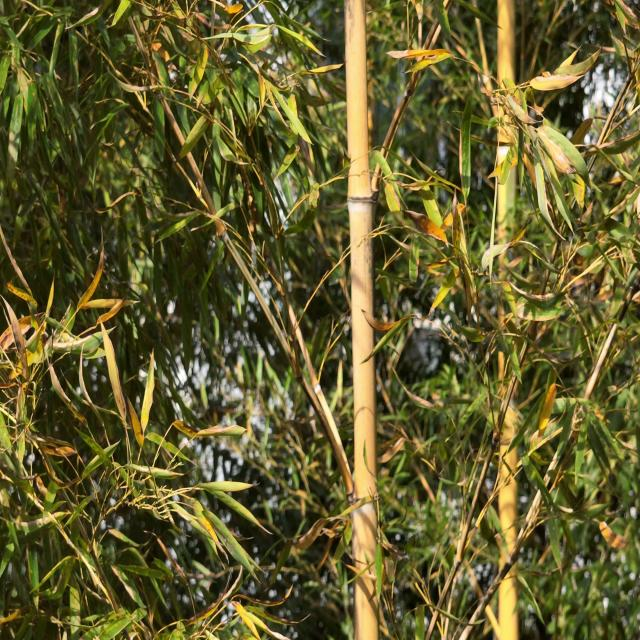Bamboo-shoots: (343, 0, 379, 640)
